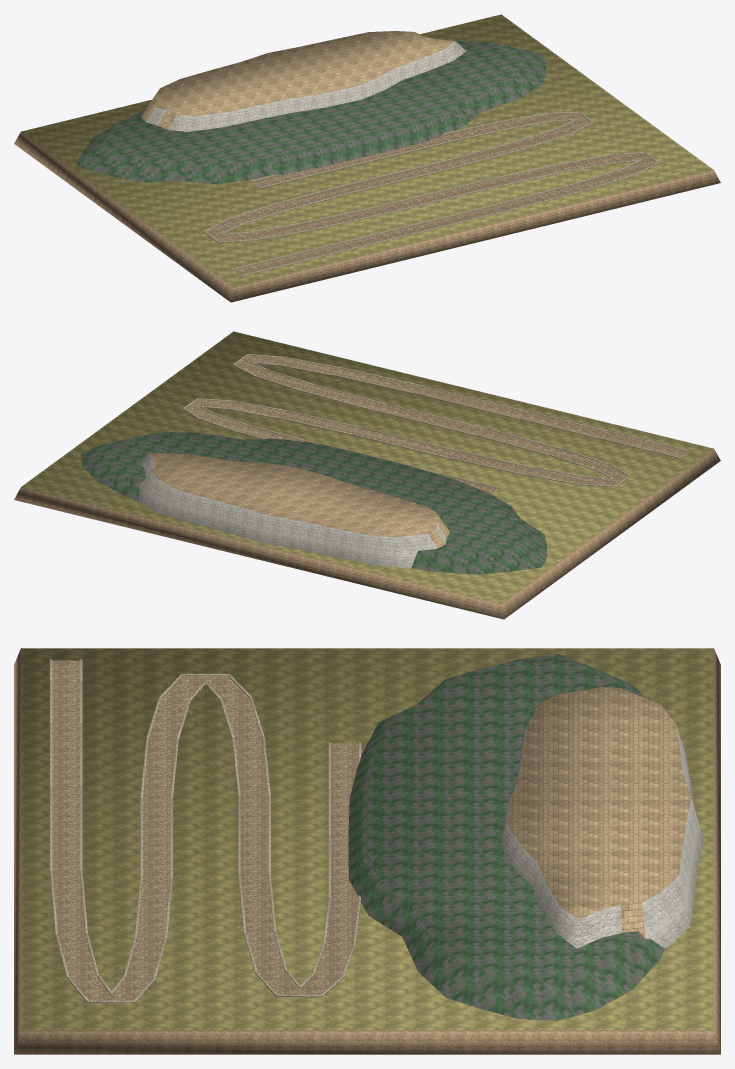
The model's file is 05_WyroczniaDelficka_teren.glb.
3 renders of one model, top to bottom at view 1: azimuth 30°, elevation 25°; view 2: azimuth 150°, elevation 25°; view 3: azimuth 270°, elevation 25°, orthographic. The views are drawn at different scales.
Parts seen in each view (by area): view 1: slope, terrace1, terrace2, path_0.004; view 2: slope, terrace2, terrace1, path_0.004; view 3: slope, terrace1, terrace2, path_0.004.
Part boxes in pixels (box(x1,y1,x2,y2)): slope: box(14, 14, 720, 302); terrace1: box(76, 40, 546, 184); terrace2: box(141, 31, 466, 131); path_0.004: box(206, 113, 656, 275); slope: box(14, 331, 720, 619); terrace2: box(138, 453, 450, 568); terrace1: box(81, 431, 547, 574); path_0.004: box(185, 355, 687, 493); slope: box(14, 648, 720, 1054); terrace1: box(348, 654, 664, 1020); terrace2: box(501, 687, 703, 948); path_0.004: box(52, 660, 358, 1000).
Bounding box in the file's own units: 245 × 18 × 188.
7 materials, 7 textured.
